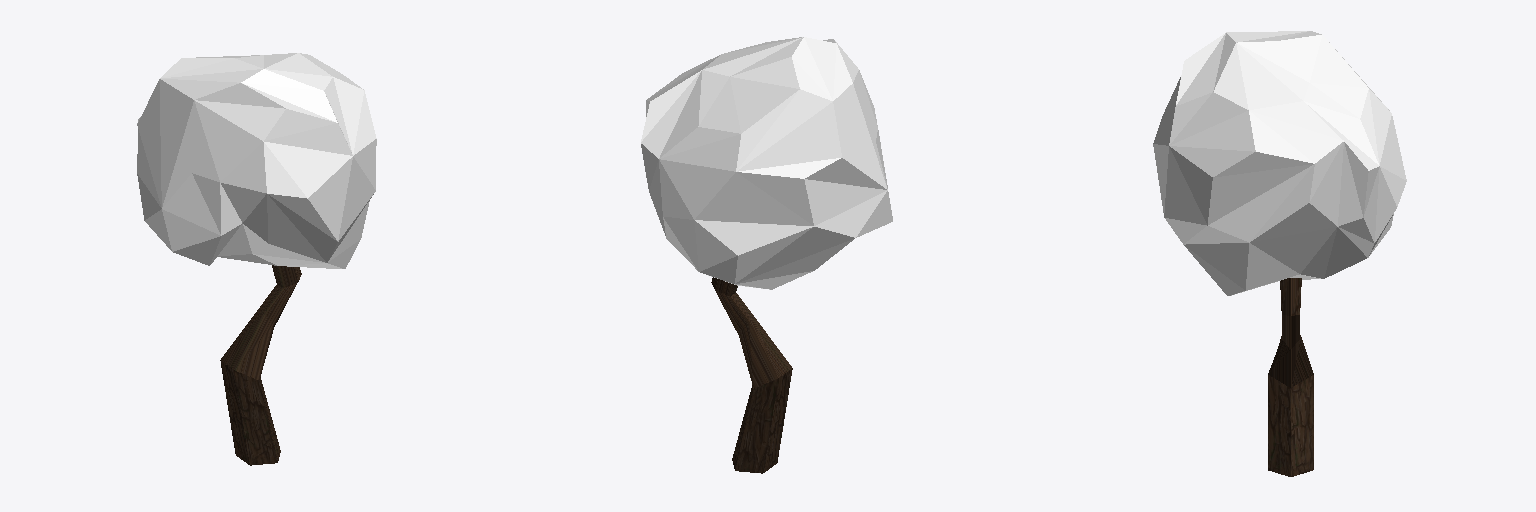
3 views of the same model, side by side, from view 1: azimuth 30°, elevation 25°; view 2: azimuth 150°, elevation 25°; view 3: azimuth 270°, elevation 25° (orthographic).
Visible parts, largest first — view 1: Hedra001, Cylinder002; view 2: Hedra001, Cylinder002; view 3: Hedra001, Cylinder002.
Part boxes in pixels (left/top/right/bottom): Hedra001: left=137, top=53, right=376, bottom=268; Cylinder002: left=220, top=265, right=301, bottom=465; Hedra001: left=641, top=37, right=892, bottom=289; Cylinder002: left=711, top=277, right=792, bottom=473; Hedra001: left=1153, top=31, right=1406, bottom=295; Cylinder002: left=1268, top=278, right=1313, bottom=476.
Bounding box in the file's own units: 65.79 × 121 × 67.59.
3 materials, 1 textured.